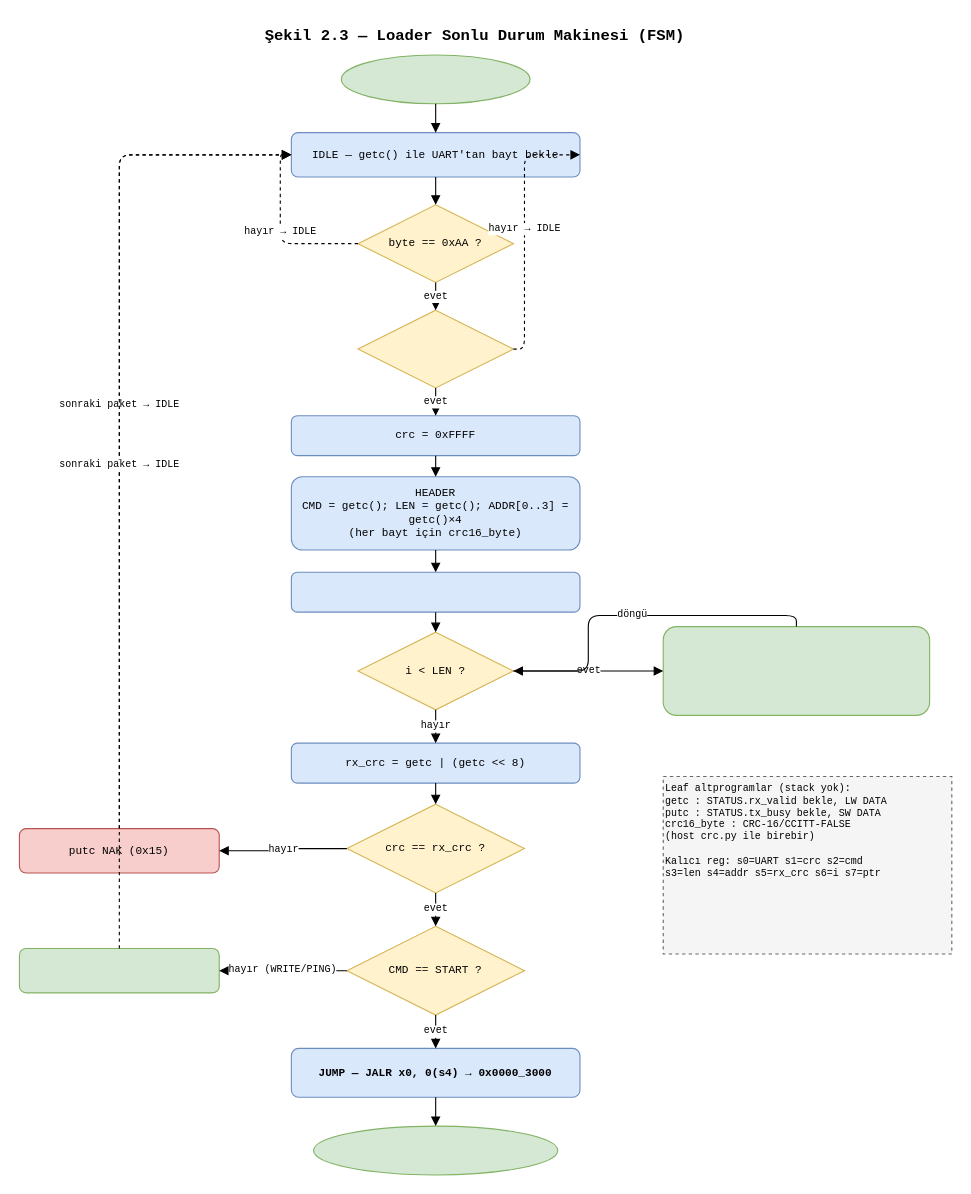
Some shapes in this 971 by 1194 pixel diagram are drawn without their labels. The box of each missing label's shape, as (x1, y1, x2, y2) in pixels:
byte == 0x55 ?: (357, 309, 513, 388)
DATA b = getc() SB b → [ptr] crc16_byte ; i++ ; ptr++: (662, 625, 930, 715)
i = 0 ; ptr = ADDR: (290, 571, 580, 612)
putc ACK (0x06): (18, 947, 219, 993)
RESET PC = 0x0000: (340, 54, 530, 104)
uygulama RAM'den çalışır: (312, 1125, 558, 1175)
